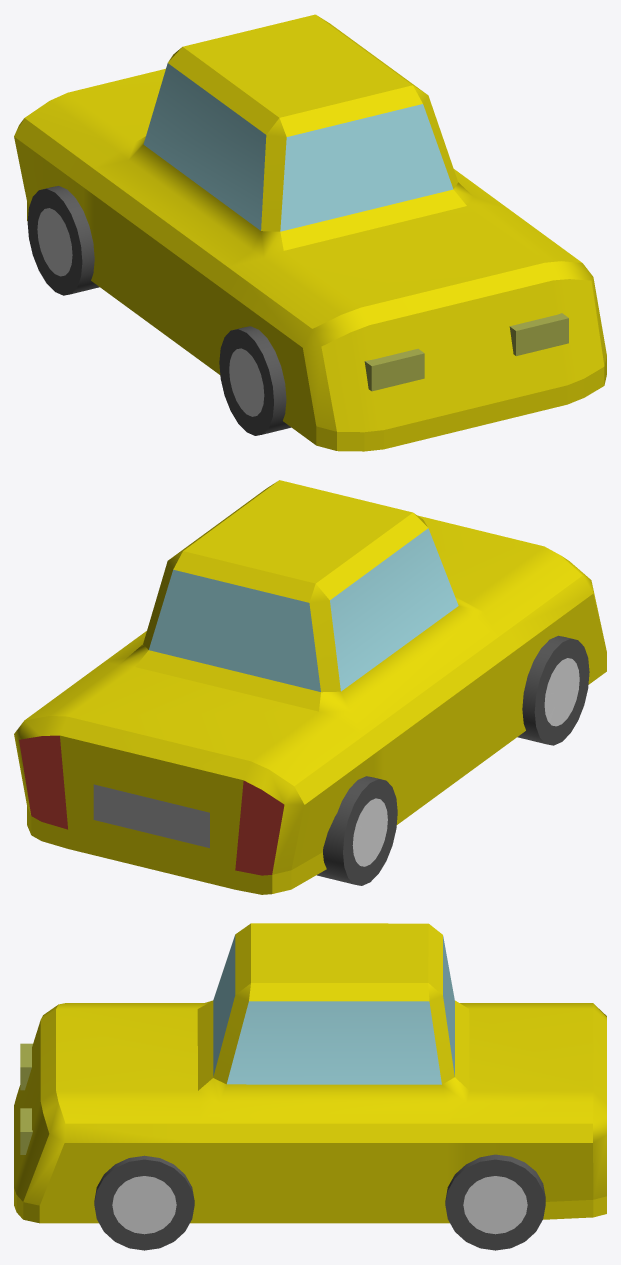
Rendered from Car_04.fbx.
3 renders of one model, top to bottom at view 1: azimuth 30°, elevation 25°; view 2: azimuth 150°, elevation 25°; view 3: azimuth 270°, elevation 25°, orthographic. The views are drawn at different scales.
Parts seen in each view (by area): view 1: pCube120, polySurface30, polySurface28, pCube128, pCube127; view 2: pCube120, polySurface30, polySurface28; view 3: pCube120, polySurface29, polySurface27, pCube127, pCube128.
Boxes of the visible parts, x1=… form: pCube120: x1=14, y1=14, x2=606, y2=451; polySurface30: x1=27, y1=186, x2=99, y2=295; polySurface28: x1=219, y1=326, x2=291, y2=435; pCube128: x1=364, y1=348, x2=424, y2=391; pCube127: x1=509, y1=313, x2=568, y2=356; pCube120: x1=14, y1=480, x2=606, y2=894; polySurface30: x1=317, y1=776, x2=397, y2=885; polySurface28: x1=517, y1=635, x2=589, y2=745; pCube120: x1=14, y1=923, x2=606, y2=1223; polySurface29: x1=445, y1=1154, x2=545, y2=1250; polySurface27: x1=94, y1=1155, x2=194, y2=1250; pCube127: x1=20, y1=1108, x2=32, y2=1154; pCube128: x1=20, y1=1043, x2=32, y2=1090.
Bounding box in the file's own units: 38.85 × 29.75 × 69.96.
